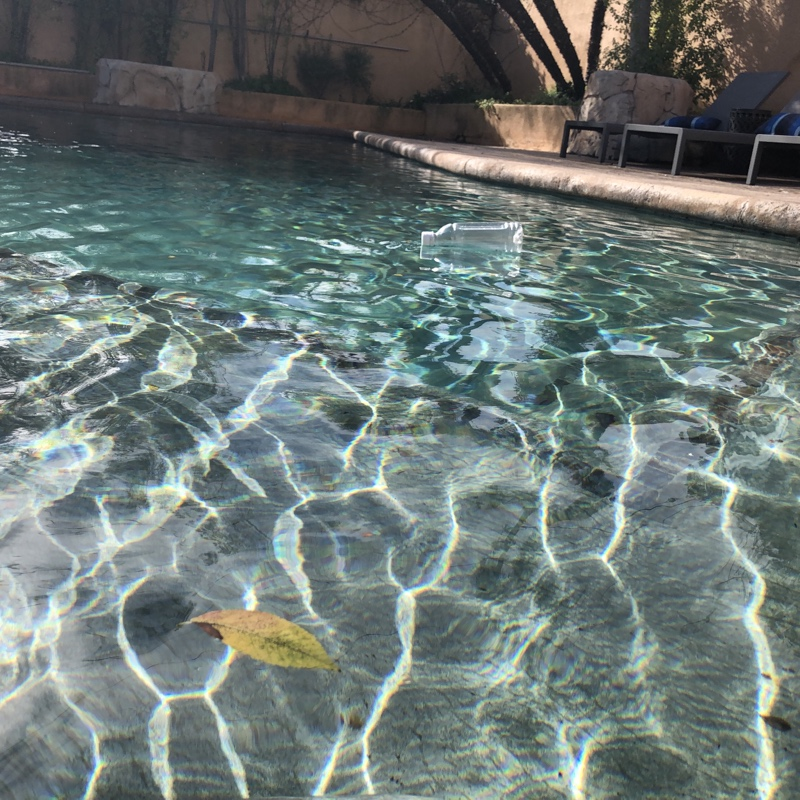Plastic Bottle: (414, 218, 532, 263)
